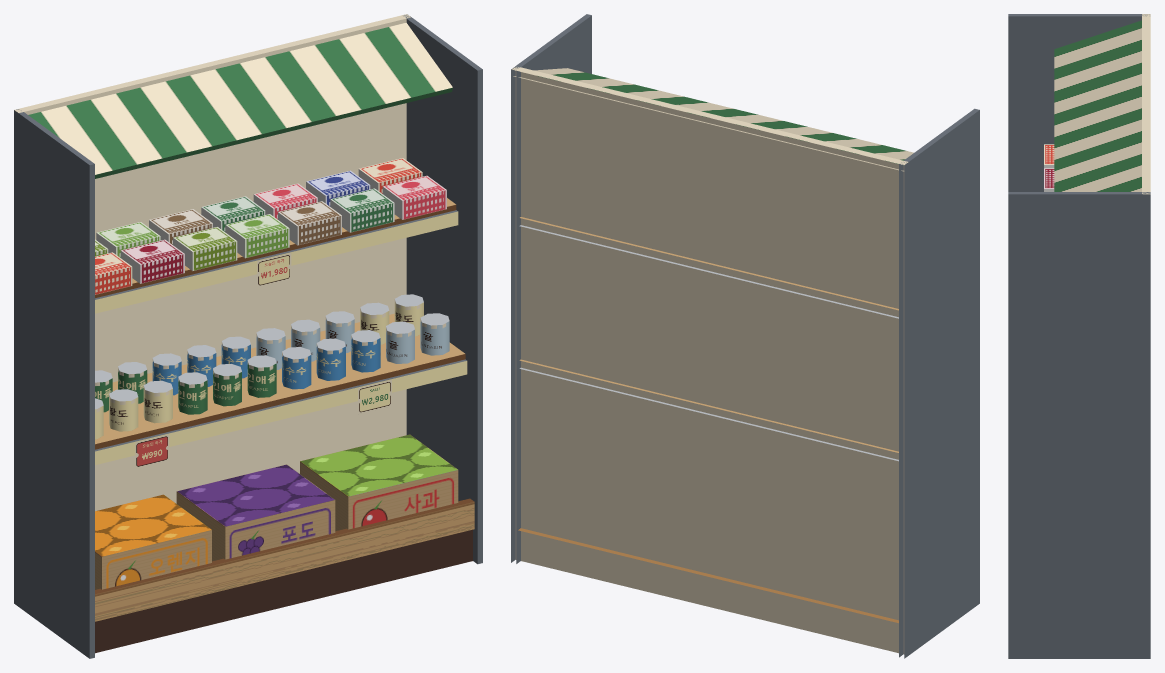
The model's file is Prop_ProduceShelf_B.fbx.
3 views of the same model, side by side, from view 1: azimuth 30°, elevation 25°; view 2: azimuth 150°, elevation 25°; view 3: azimuth 270°, elevation 25° (orthographic). The views are drawn at different scales.
Visible parts, largest first — view 1: Prop_ProduceShelf_B; view 2: Prop_ProduceShelf_B; view 3: Prop_ProduceShelf_B.
Part boxes in pixels (x1,y1,x2,y2): Prop_ProduceShelf_B: (14, 14, 482, 658); Prop_ProduceShelf_B: (511, 14, 979, 658); Prop_ProduceShelf_B: (1008, 14, 1150, 658).
Bounding box in the file's own units: 1.5 × 1.8 × 0.5.
Materials: 1 (1 with a texture image).
